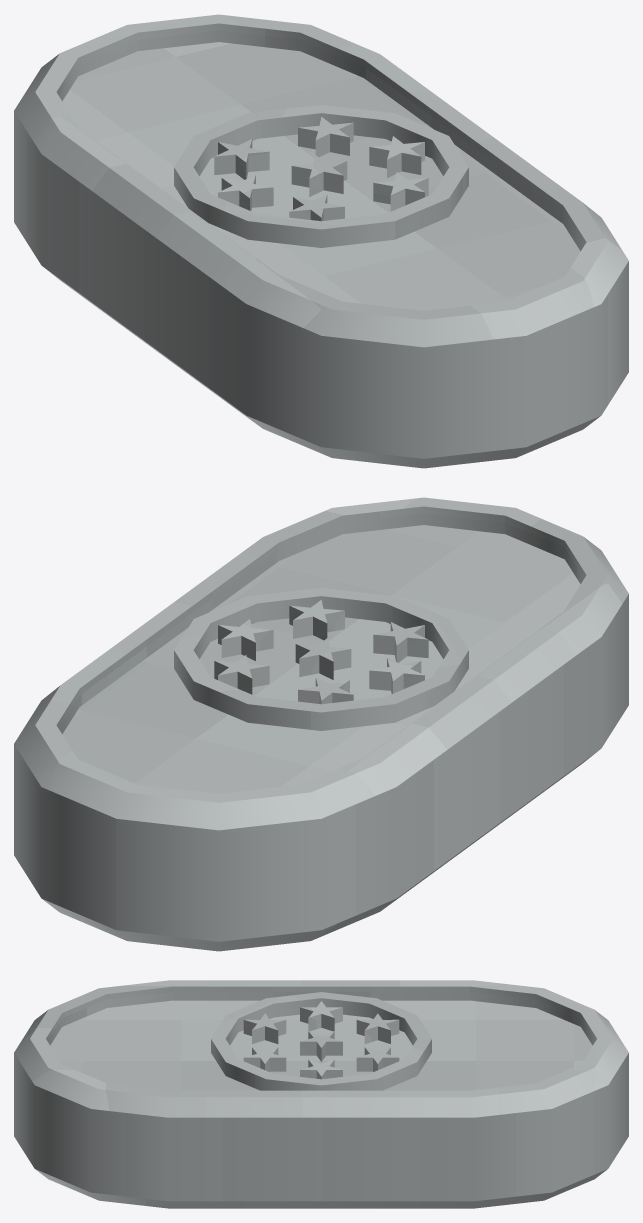
Rendered from concentrate_brick_confederation.obj.
3 renders of one model, top to bottom at view 1: azimuth 30°, elevation 25°; view 2: azimuth 150°, elevation 25°; view 3: azimuth 270°, elevation 25°, orthographic. The views are drawn at different scales.
Visible parts, largest first — view 1: concentrate_brick_confederation__EXPORT_TEMP; view 2: concentrate_brick_confederation__EXPORT_TEMP; view 3: concentrate_brick_confederation__EXPORT_TEMP.
Part boxes in pixels (<box>): concentrate_brick_confederation__EXPORT_TEMP: <box>14,14,628,468</box>; concentrate_brick_confederation__EXPORT_TEMP: <box>14,497,628,951</box>; concentrate_brick_confederation__EXPORT_TEMP: <box>14,980,628,1208</box>.
Size of the model in its own units: 0.1 by 0.04 by 0.2.
